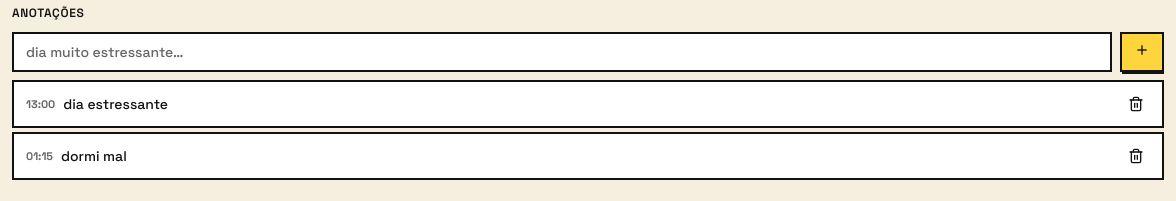
Test: DayNotes › edits inline: blur saves, Escape cancels
Click the button "dormi mal": (94,156) x1=61 y1=146 x2=1114 y2=166
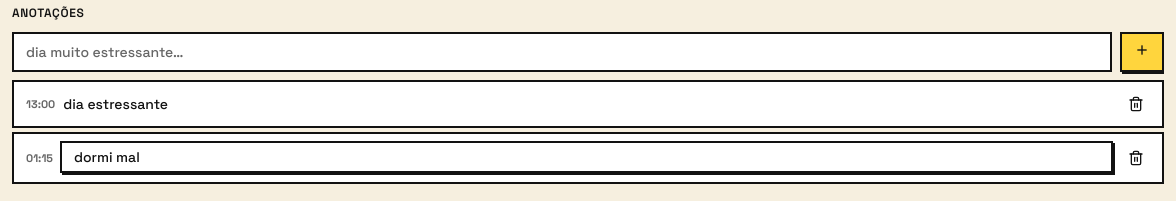
Replace the text in the field showing "dormi mal" with "dormi bem": (586,157) x1=60 y1=141 x2=1113 y2=173
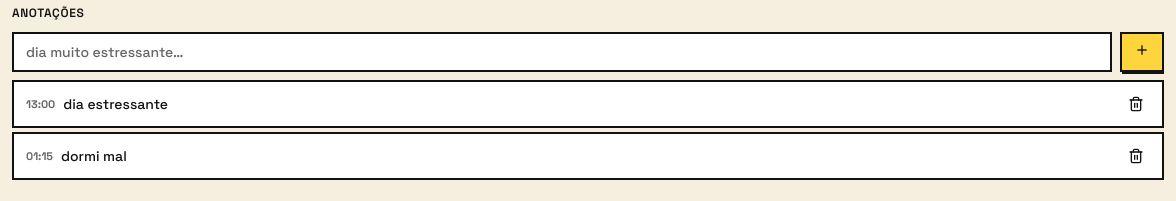
Click the button "dia estressante": (116,104) x1=63 y1=94 x2=1114 y2=114
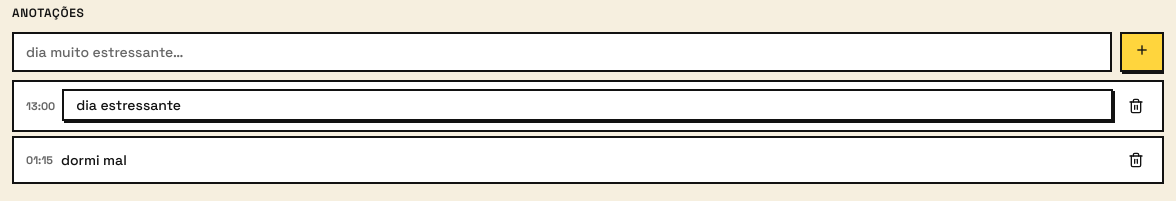
Replace the text in the field showing "dia estressante" with "descartado": (588,105) x1=62 y1=89 x2=1113 y2=121
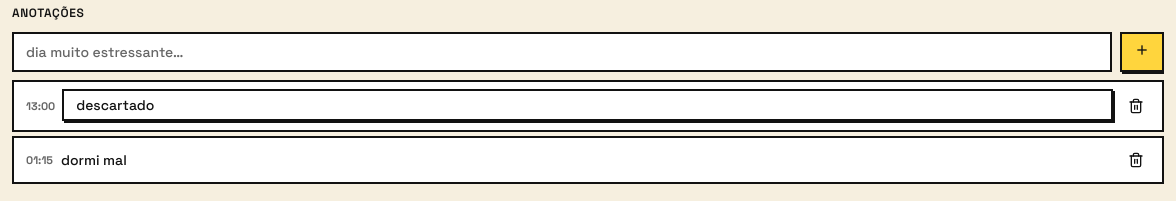
Press Escape in the field showing "dia estressante", box x1=62 y1=89 x2=1113 y2=121
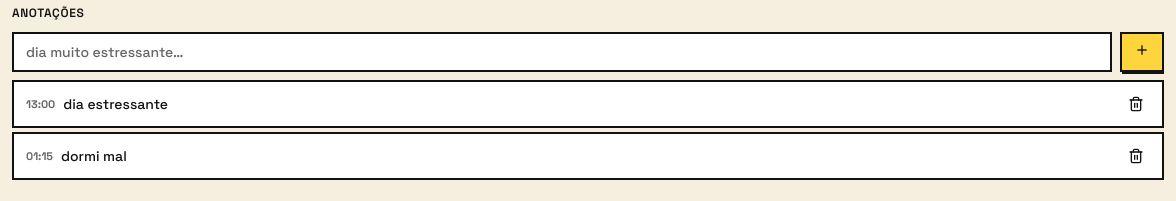
Expected: the button "dia estressante" is shown, x1=63 y1=94 x2=1114 y2=114
